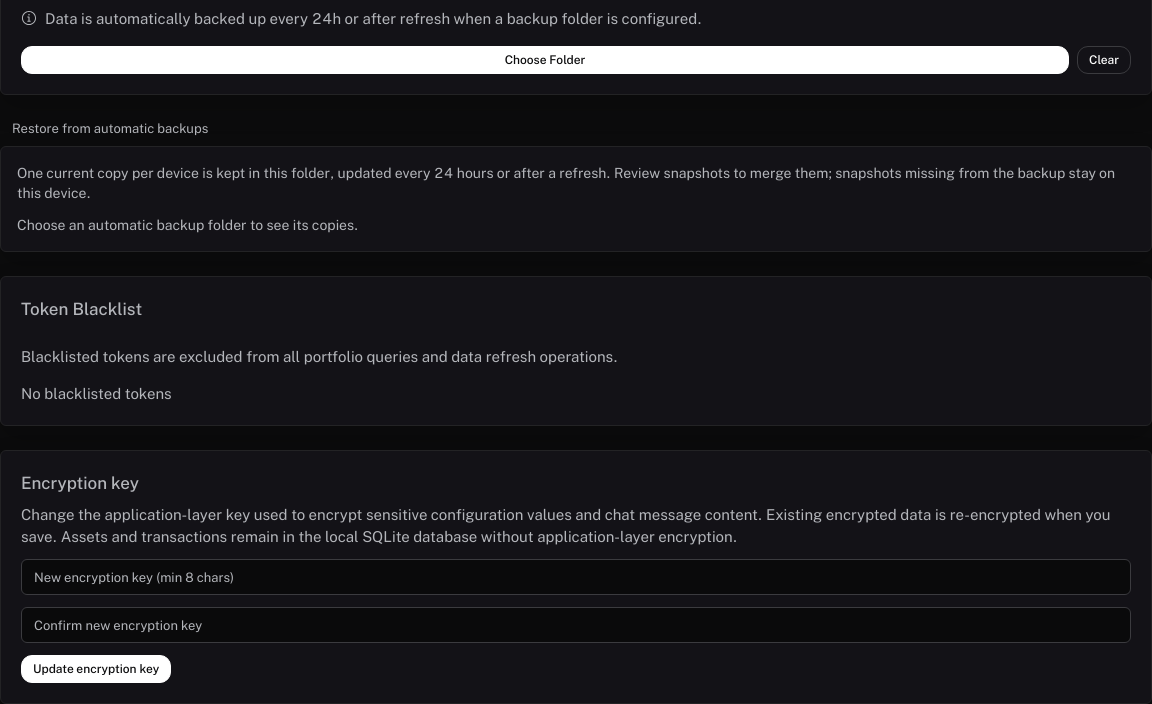
Data Management › disables repeat submission while rotation is saving
(page scrolled)
Type "new-key-123" into the password field with placeholder "New encryption key (min 8 chars)".
click(576, 577); type("new-key-123")  # box x1=21 y1=559 x2=1131 y2=595
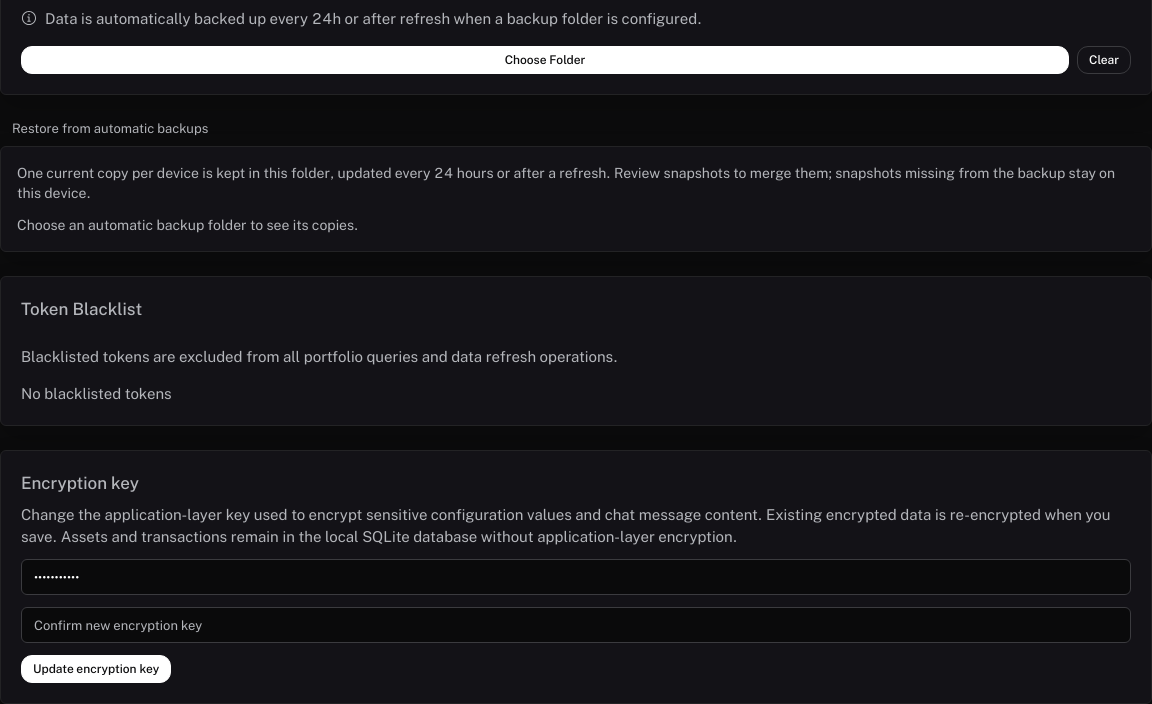
Type "new-key-123" into the password field with placeholder "Confirm new encryption key".
click(576, 625); type("new-key-123")  # box x1=21 y1=607 x2=1131 y2=643
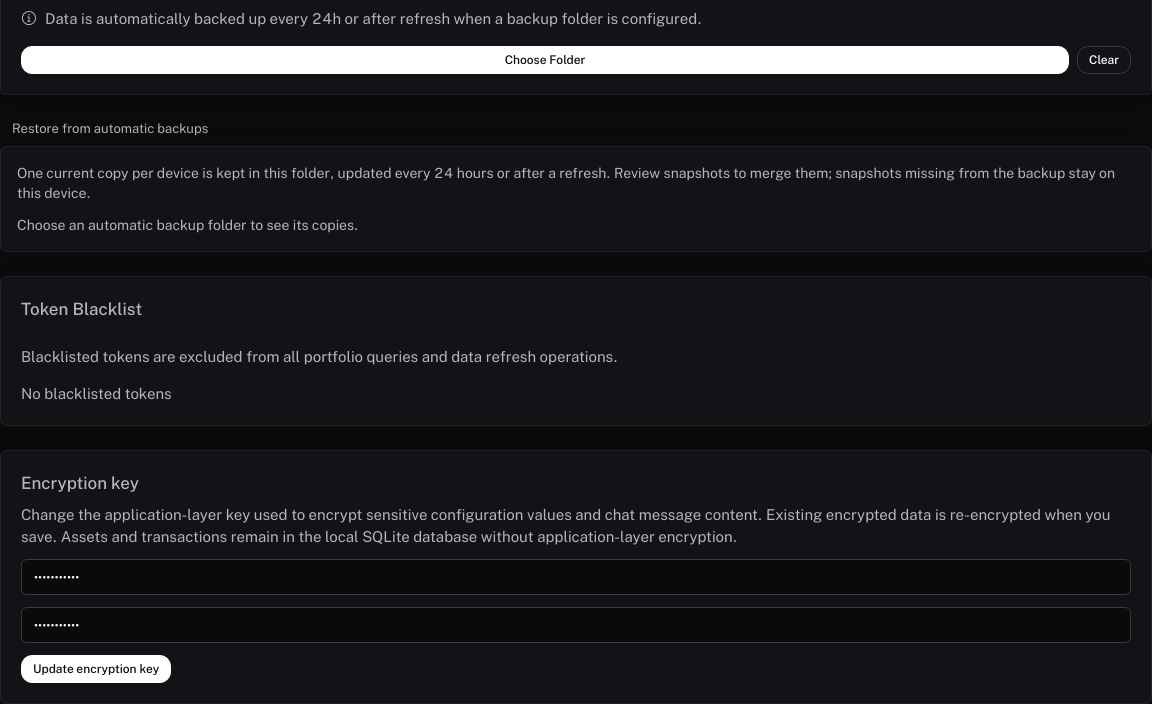
Click the button "Update encryption key".
click(96, 669)  # box x1=21 y1=655 x2=171 y2=683
(page scrolled)
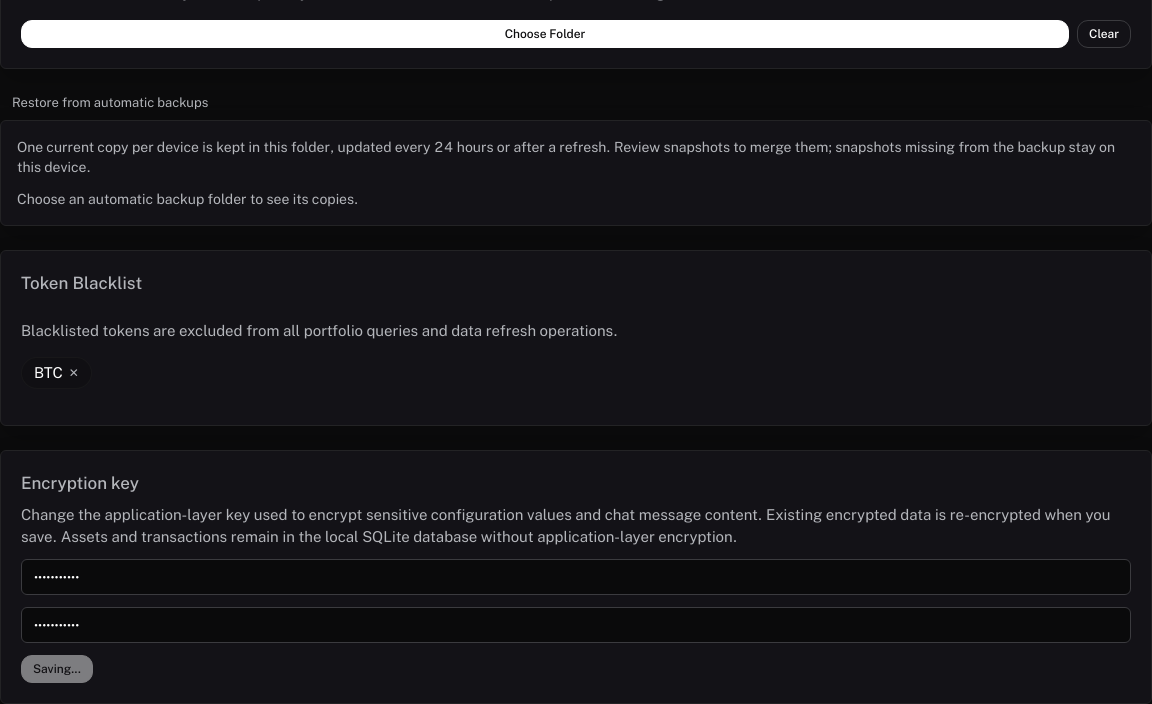
Check: the button "Saving..." is disabled
Click the button "Saving...".
click(57, 669)  # box x1=21 y1=655 x2=93 y2=683
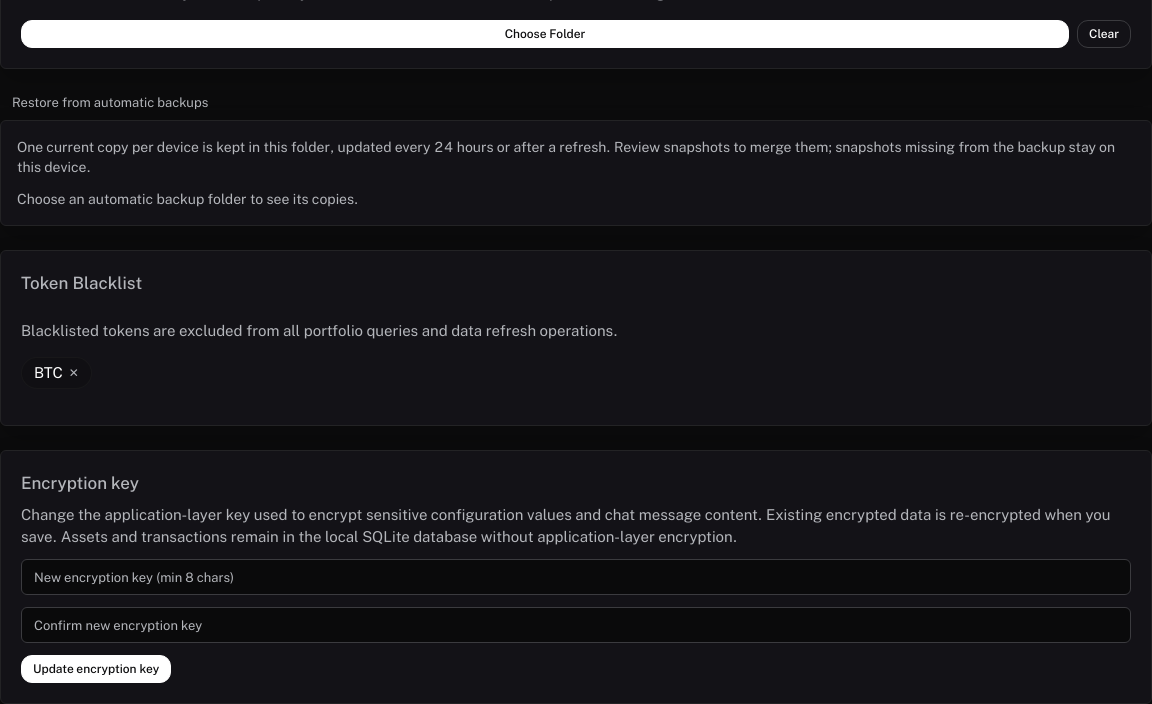
Check: the button "Update encryption key" is enabled, box x1=21 y1=655 x2=171 y2=683
